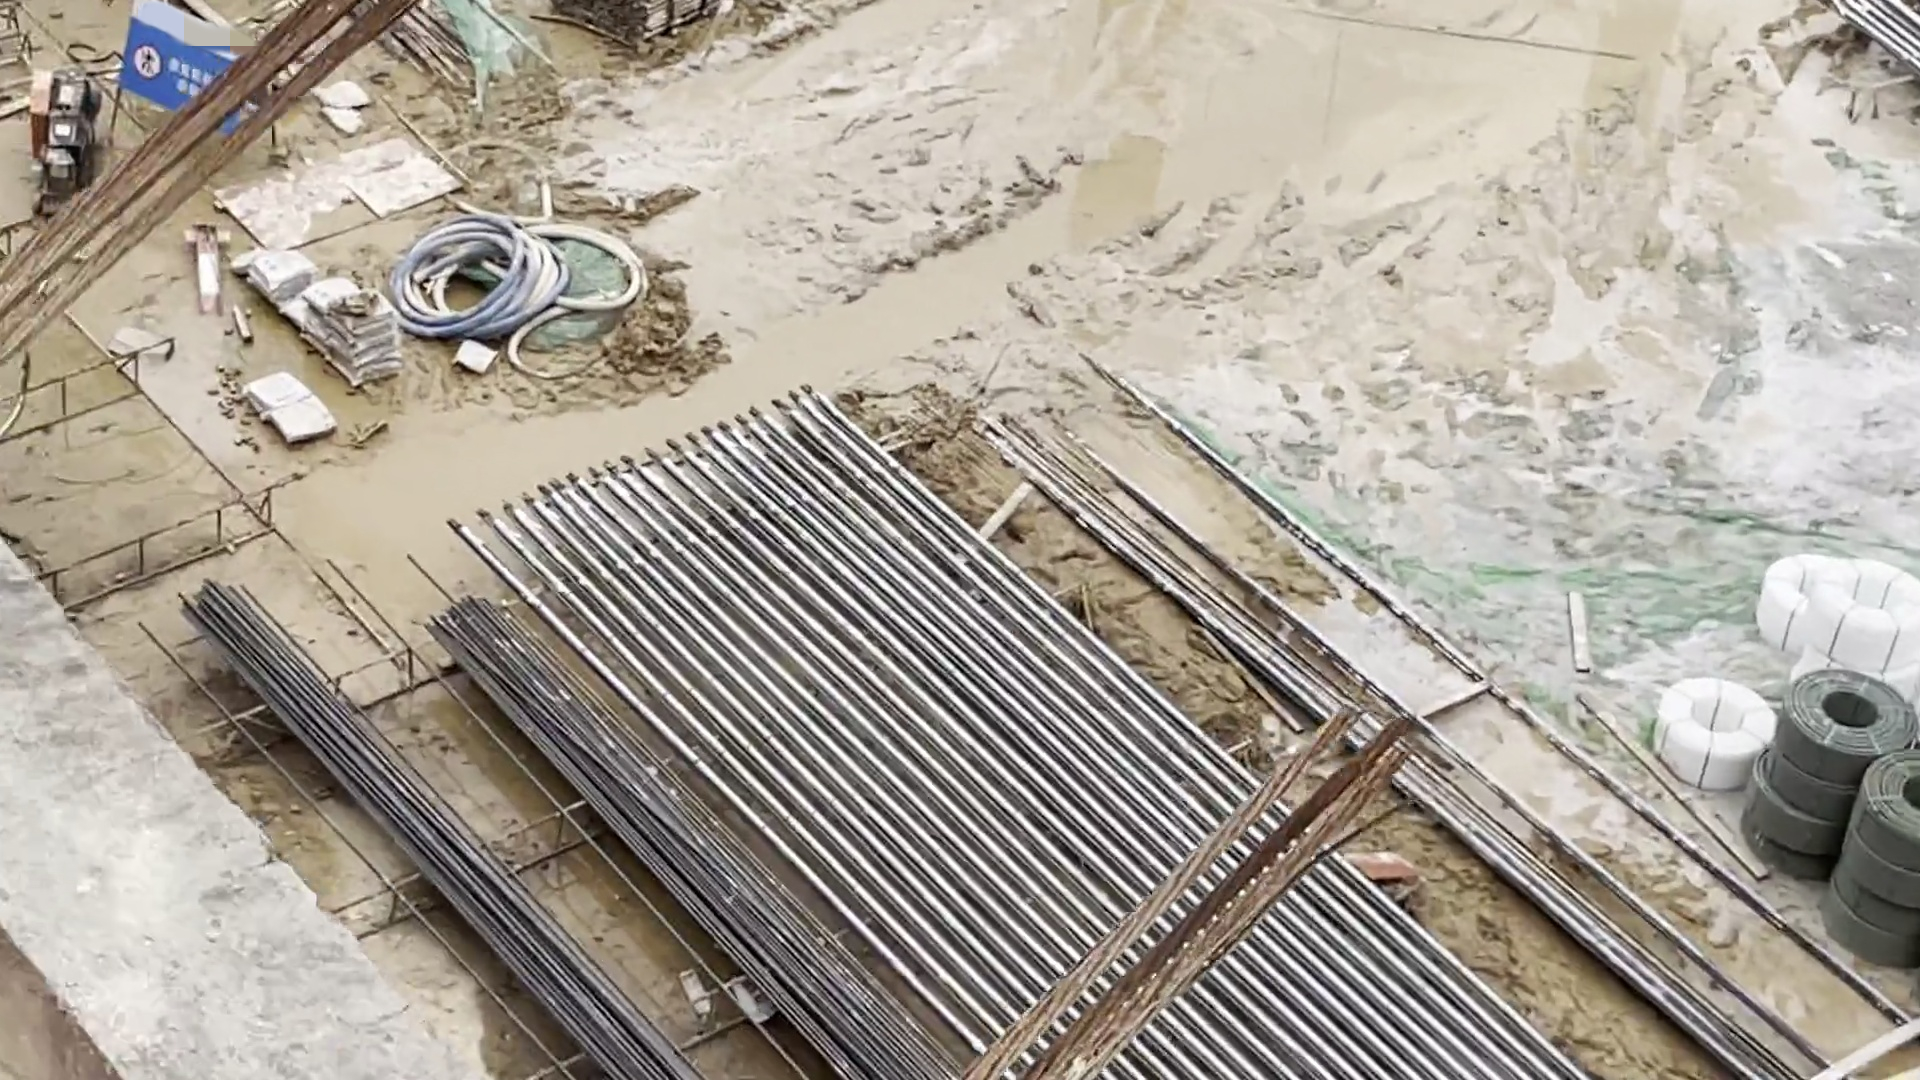rebar: (162, 582, 913, 1080)
slogan: (128, 5, 253, 124)
